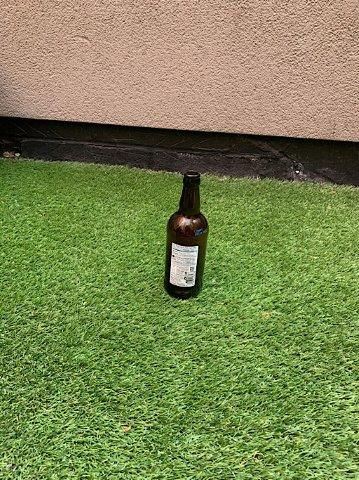botolkaca: (165, 171, 208, 299)
